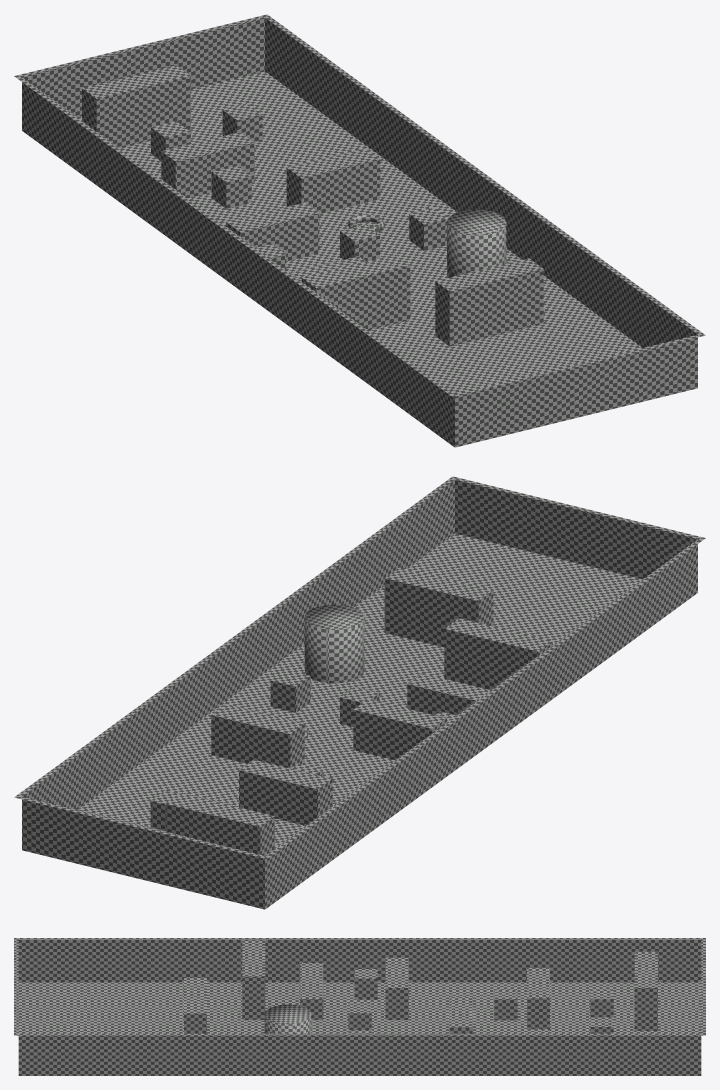
The picture shows the model from 3 angles, top to bottom: view 1: azimuth 30°, elevation 25°; view 2: azimuth 150°, elevation 25°; view 3: azimuth 270°, elevation 25°; orthographic projection. The views are drawn at different scales.
Visible parts, largest first — view 1: Cube.007; view 2: Cube.007; view 3: Cube.007.
Boxes of the visible parts, <box> form: Cube.007: <box>14,14,705,447</box>; Cube.007: <box>14,476,705,909</box>; Cube.007: <box>14,938,705,1075</box>.
Bounding box in the file's own units: 20 × 4.21 × 60.
